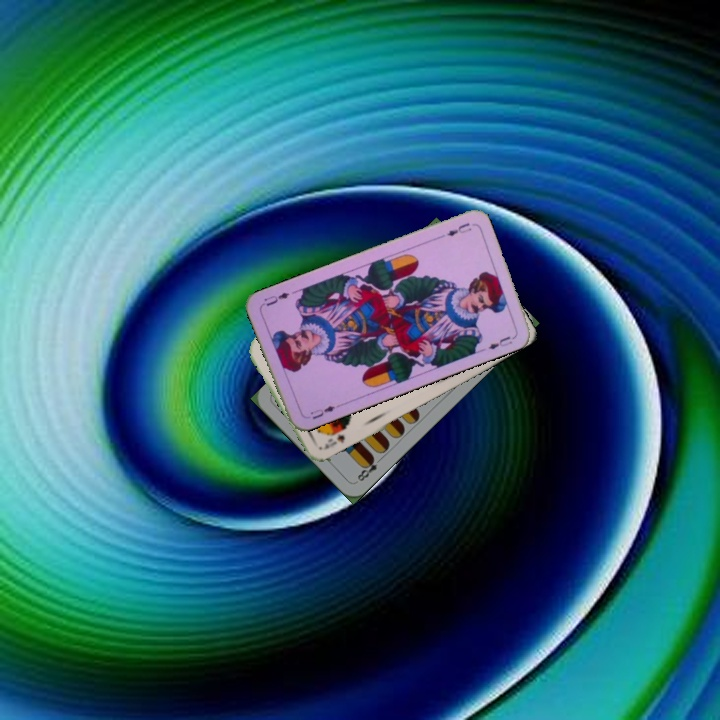E8: (353, 452, 385, 484)
EU: (435, 219, 474, 241), (303, 401, 342, 422)
SO: (321, 430, 348, 452)
